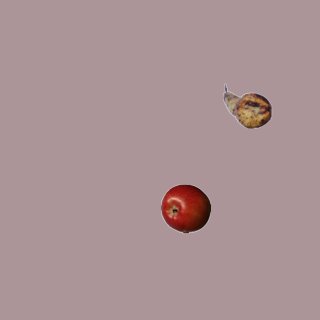Apple Braeburn: (160, 183, 210, 233)
Pear Abate: (222, 81, 272, 131)
